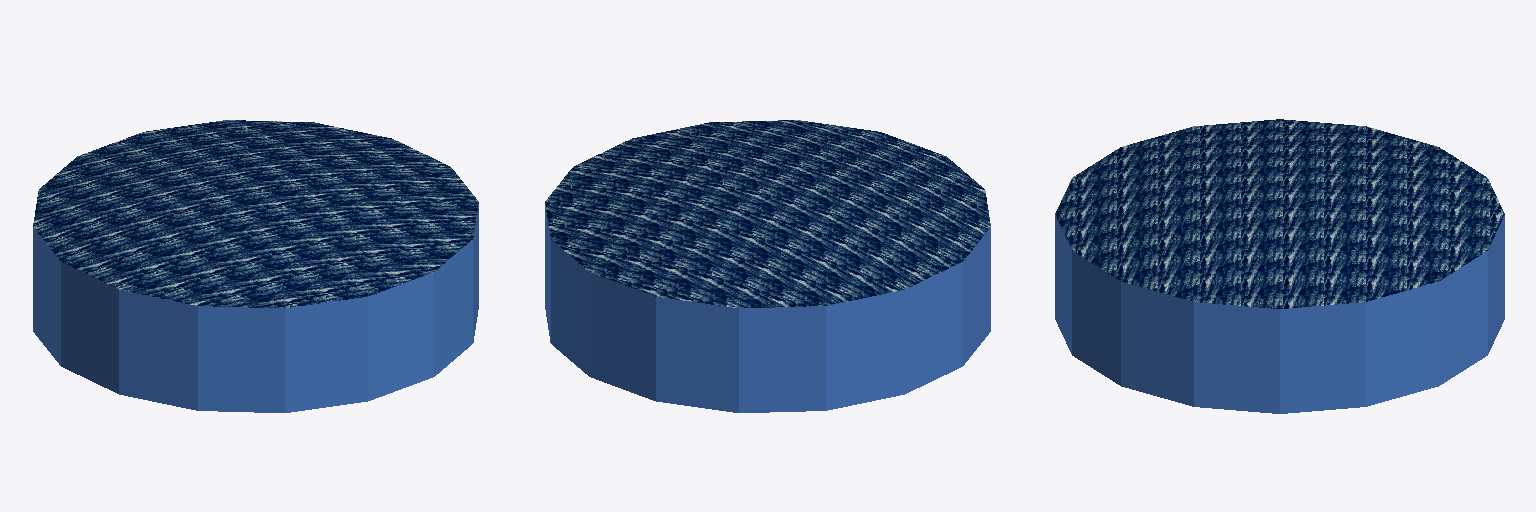
3 views of the same model, side by side, from view 1: azimuth 30°, elevation 25°; view 2: azimuth 150°, elevation 25°; view 3: azimuth 270°, elevation 25° (orthographic).
Visible parts, largest first — view 1: sky_0, sky2_0; view 2: sky_0, sky2_0; view 3: sky_0, sky2_0.
Part boxes in pixels (bbox=[...]): sky_0: bbox=[33, 120, 478, 307]; sky2_0: bbox=[33, 205, 478, 412]; sky_0: bbox=[545, 120, 990, 307]; sky2_0: bbox=[545, 205, 990, 412]; sky_0: bbox=[1055, 119, 1504, 308]; sky2_0: bbox=[1055, 215, 1504, 413].
Size of the model in its own units: 54248 by 16787 by 54248.
Materials: 2 (1 with a texture image).